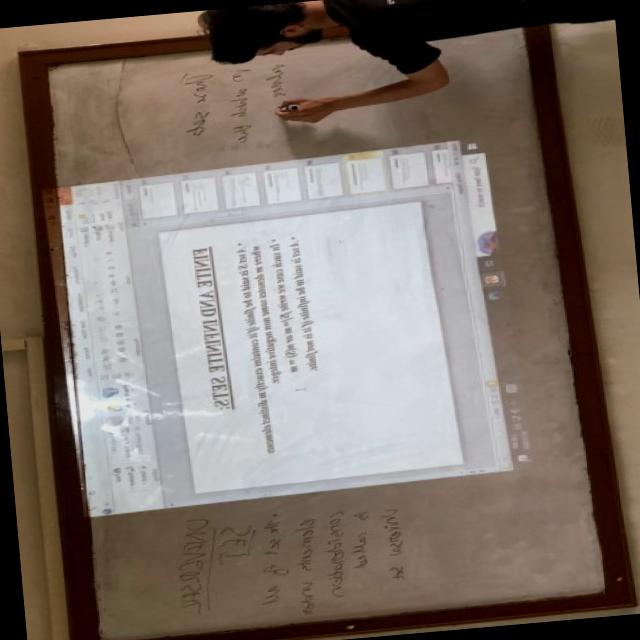Instructor: (168, 0, 595, 78)
Slide: (45, 133, 553, 520)
White-board: (33, 7, 622, 640)
